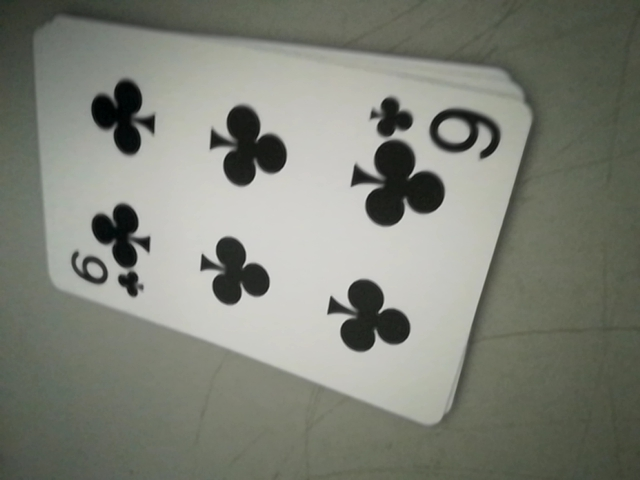mh 6: (366, 93, 503, 152), (65, 253, 143, 301)
